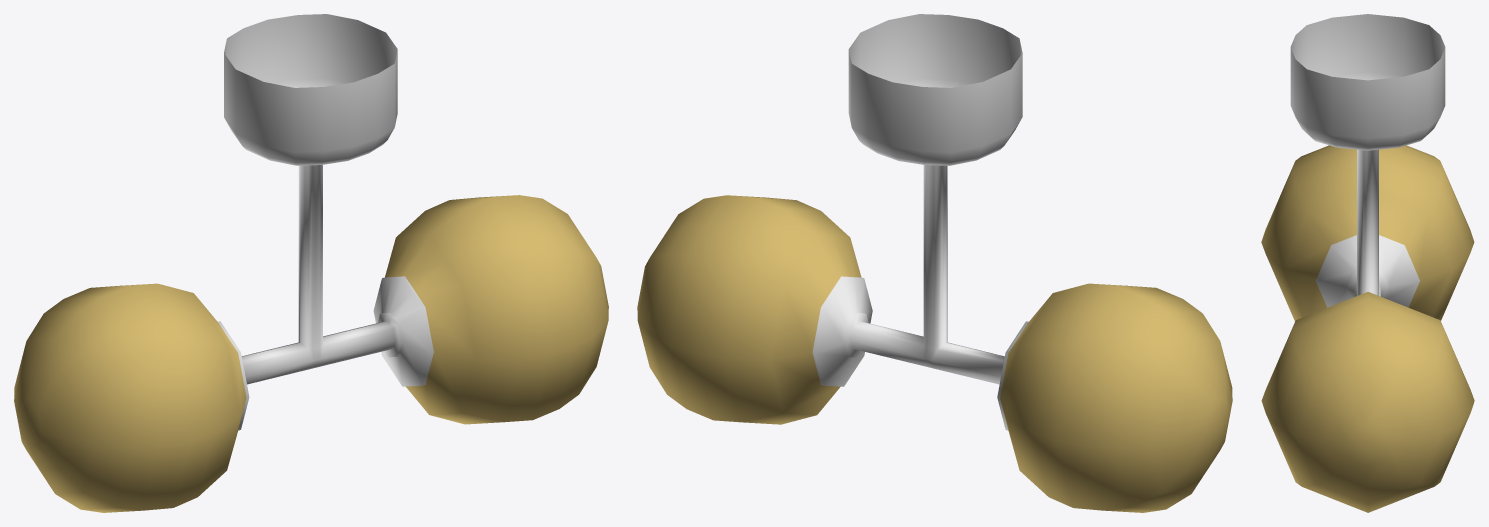
Rendered from suspension_bulle_1.fbx.
3 views of the same model, side by side, from view 1: azimuth 30°, elevation 25°; view 2: azimuth 150°, elevation 25°; view 3: azimuth 270°, elevation 25° (orthographic). The views are drawn at different scales.
Visible parts, largest first — view 1: luminaire_bulle_2; view 2: luminaire_bulle_2; view 3: luminaire_bulle_2.
Boxes of the visible parts, x1,y1,x2,y2 form: luminaire_bulle_2: (14,14,608,512); luminaire_bulle_2: (637,14,1232,512); luminaire_bulle_2: (1261,14,1474,512).
Size of the model in its own units: 0.05 by 0.035 by 0.018.
